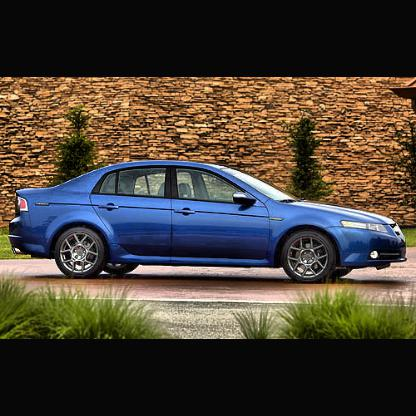Acura TL Type-S 2008: (8, 158, 410, 286)
